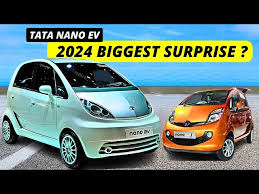Nano: (2, 57, 161, 165), (163, 86, 254, 162)
